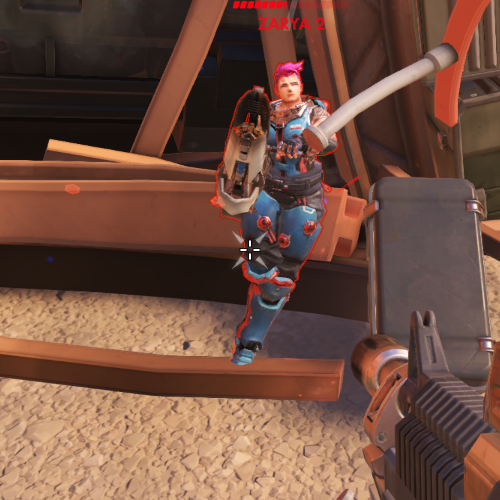hpbar: (232, 1, 349, 10)
